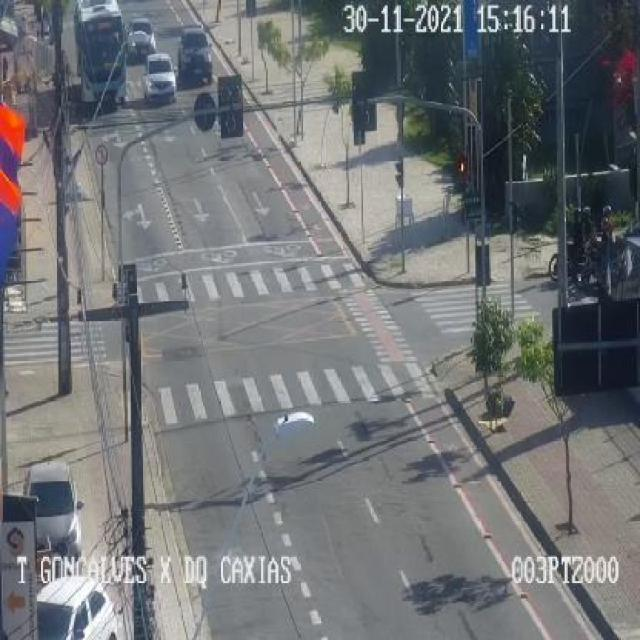bus: (75, 0, 125, 108)
car: (28, 462, 82, 556), (38, 579, 118, 640), (179, 28, 212, 89), (145, 54, 176, 102), (128, 18, 156, 64)
road-signs: (218, 75, 244, 138), (194, 92, 216, 131)
